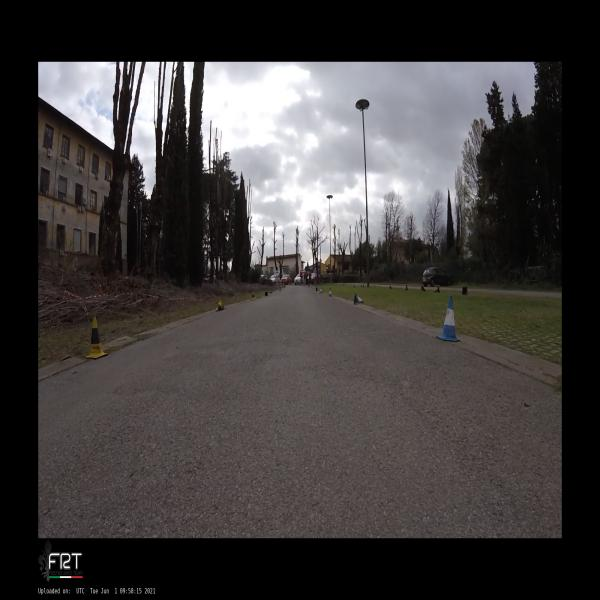blue_cone: (436, 296, 461, 342), (354, 294, 364, 305), (328, 287, 333, 297), (319, 287, 322, 294)
unknown_cone: (462, 286, 468, 295), (434, 287, 440, 292), (421, 286, 426, 292), (265, 292, 268, 296), (406, 284, 408, 290), (390, 285, 392, 289), (270, 290, 272, 293), (316, 288, 317, 291)
yellow_cone: (85, 316, 108, 359), (215, 300, 224, 312), (250, 291, 256, 300)
